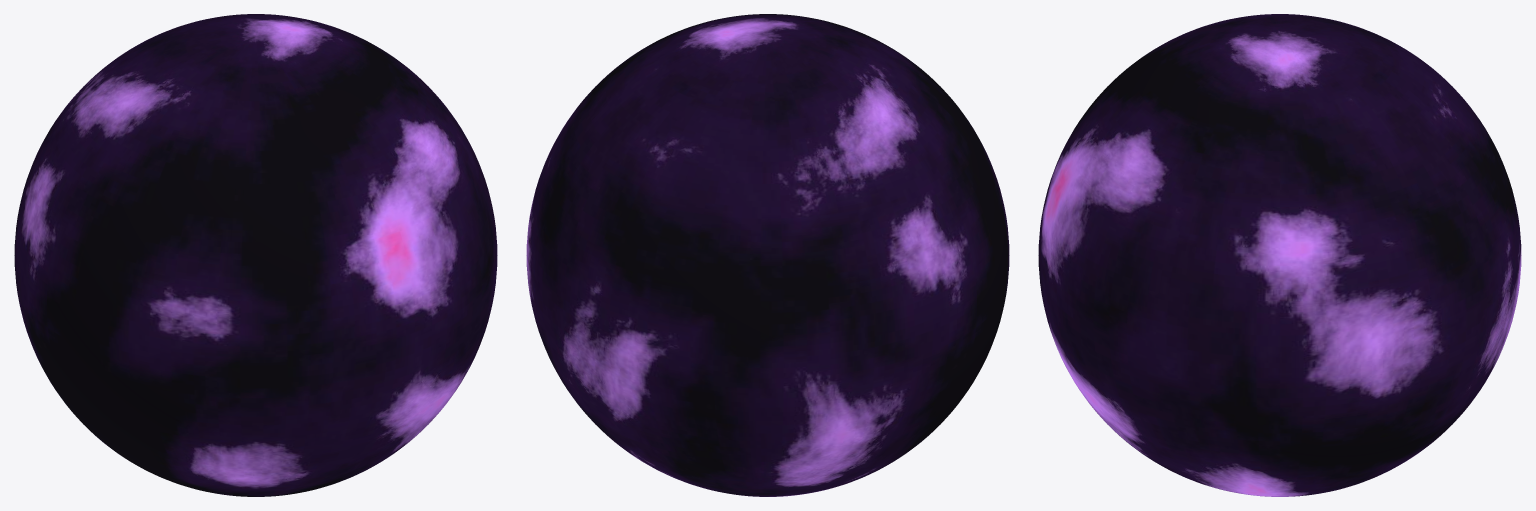
File: cosmic-scene.glb
The picture shows the model from 3 angles, left to right: view 1: azimuth 30°, elevation 25°; view 2: azimuth 150°, elevation 25°; view 3: azimuth 270°, elevation 25°; orthographic projection.
Parts seen in each view (by area): view 1: NebulaDome; view 2: NebulaDome; view 3: NebulaDome.
Boxes of the visible parts, x1,y1,x2,y2 form: NebulaDome: (14,14,497,496); NebulaDome: (526,14,1009,496); NebulaDome: (1038,14,1521,496).
Size of the model in its own units: 100 by 100 by 100.
1 material, 1 textured.
